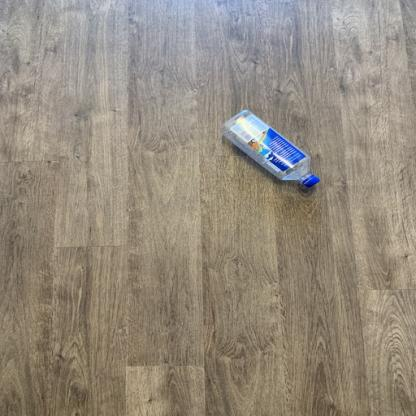trash: (221, 111, 325, 190)
